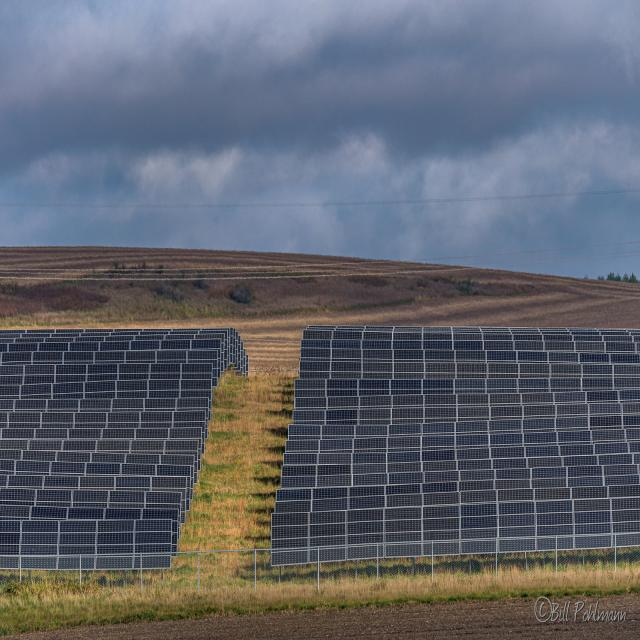clean-solar-panel: (271, 324, 640, 566), (1, 328, 249, 569)
